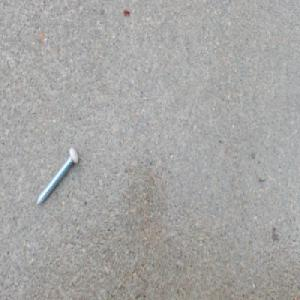Nail: (36, 144, 81, 207)
